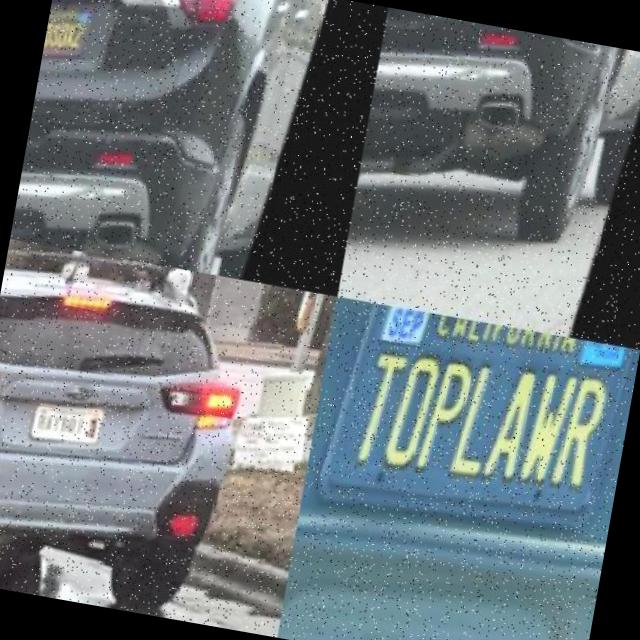LicensePlate: (316, 300, 640, 564), (40, 4, 96, 75), (33, 409, 110, 451), (387, 7, 458, 41)
